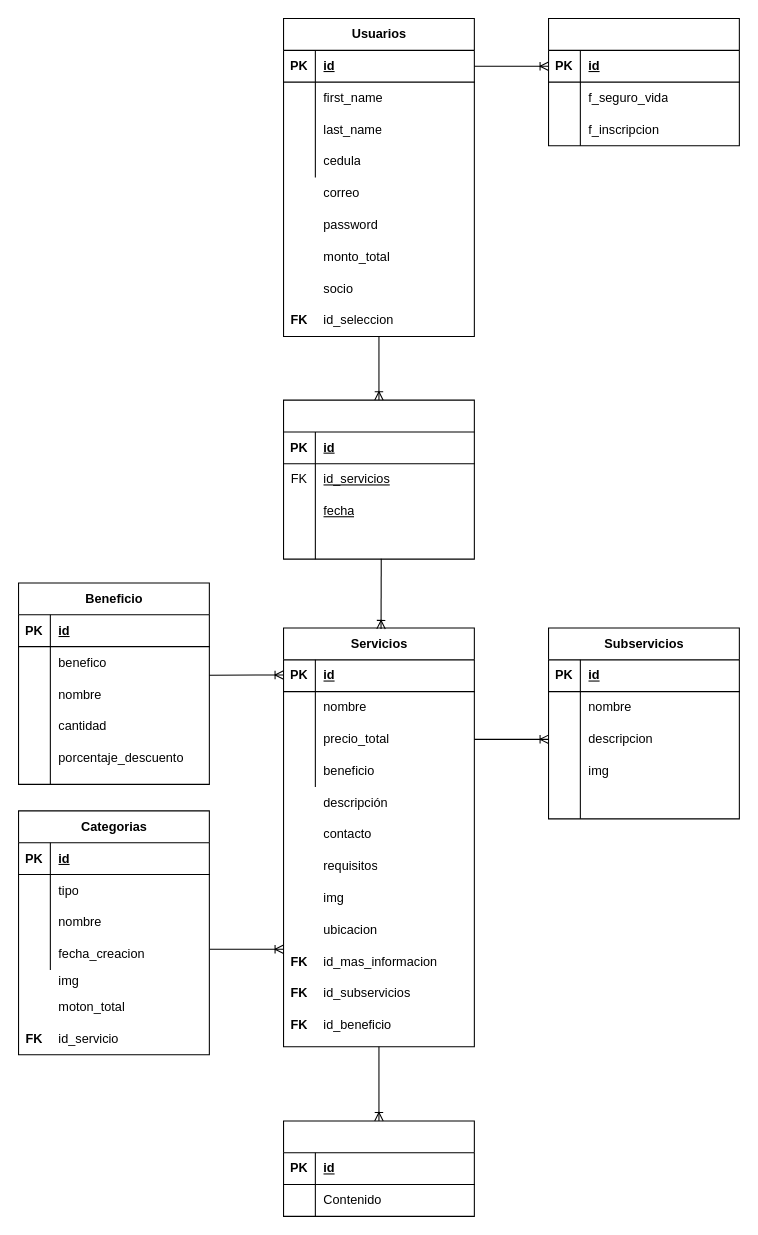
Image size: 758x1235. Some labels were removed from this diagram. Here are the shapes that lost their labels. From the top down, the box of each, then its label:
(547, 17, 739, 146): Formularios
(282, 399, 474, 559): Seleccion
(282, 1120, 474, 1216): Mas_informacion
